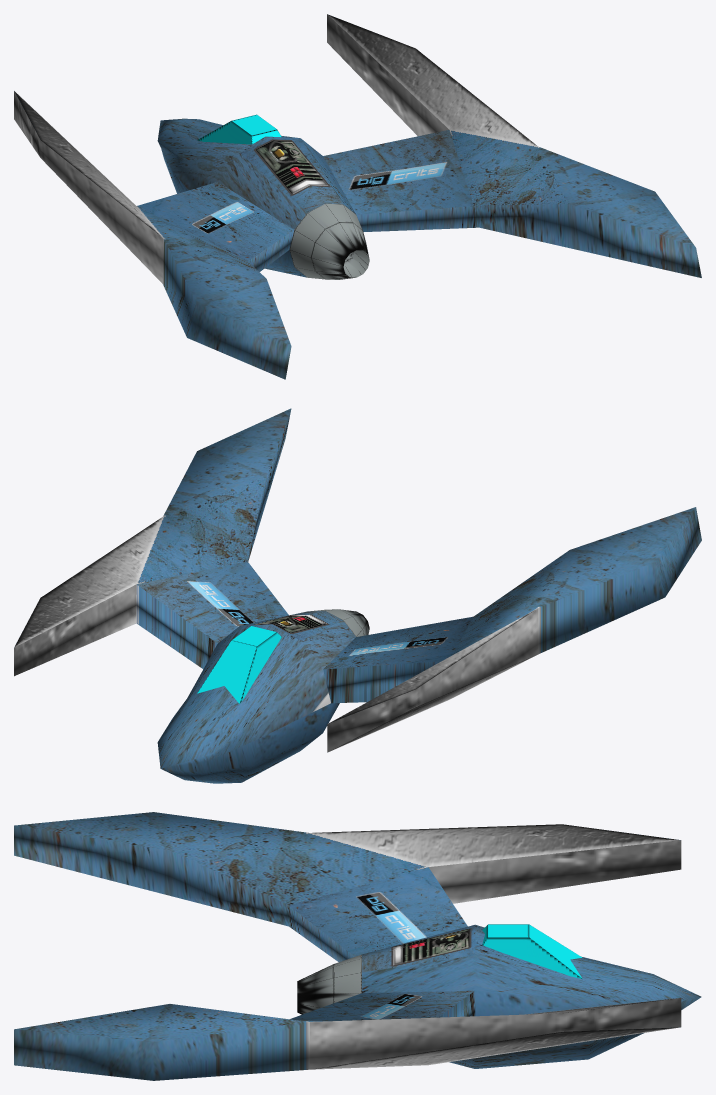
Rendered from Ship.FBX.
3 views of the same model, one above another, from view 1: azimuth 30°, elevation 25°; view 2: azimuth 150°, elevation 25°; view 3: azimuth 270°, elevation 25° (orthographic). The views are drawn at different scales.
Parts seen in each view (by area): view 1: Sphere01; view 2: Sphere01; view 3: Sphere01.
Boxes of the visible parts, <box> form: Sphere01: <box>14,14,701,379</box>; Sphere01: <box>14,408,701,783</box>; Sphere01: <box>14,812,701,1080</box>.
Bounding box in the file's own units: 19.97 × 5.56 × 24.1.
1 material, 1 textured.
